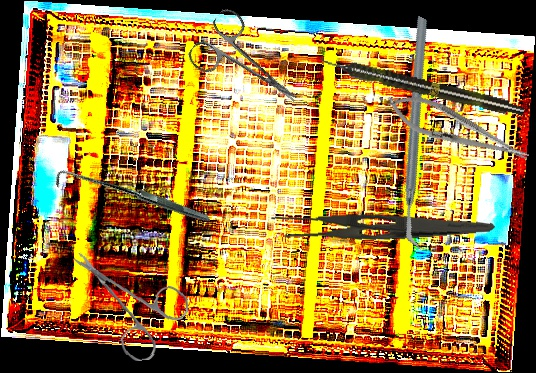Chopper: (322, 14, 516, 251)
Dressing Forceps: (270, 197, 495, 249)
Handpiece: (317, 51, 527, 121)
Hook Surgical: (51, 117, 211, 281)
Iris Scissors: (183, 4, 316, 129), (72, 245, 193, 365)
Needle Holder: (382, 85, 535, 175)
